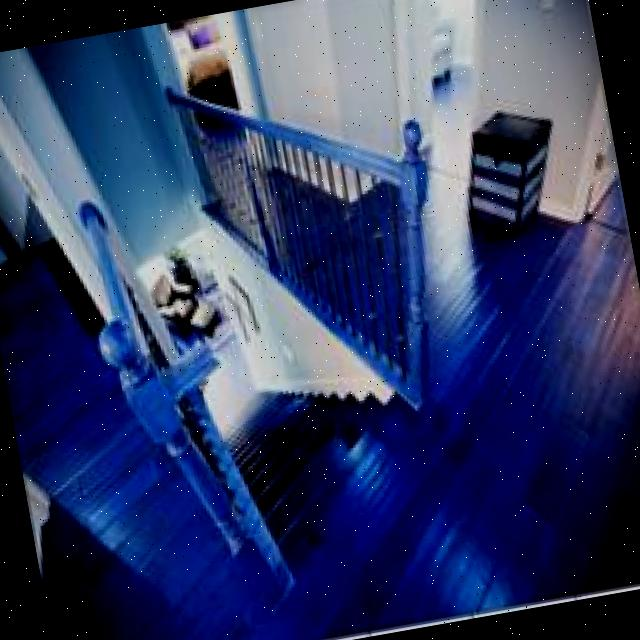stairs: (202, 385, 429, 557)
